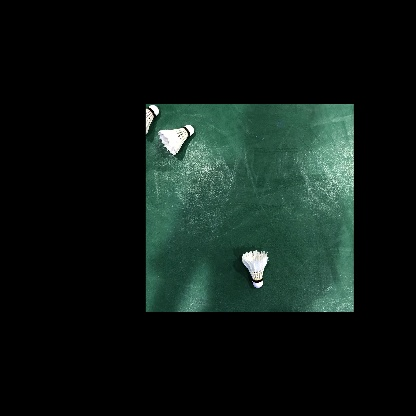ball_single: (157, 125, 194, 155), (241, 250, 268, 288), (146, 105, 159, 135)
